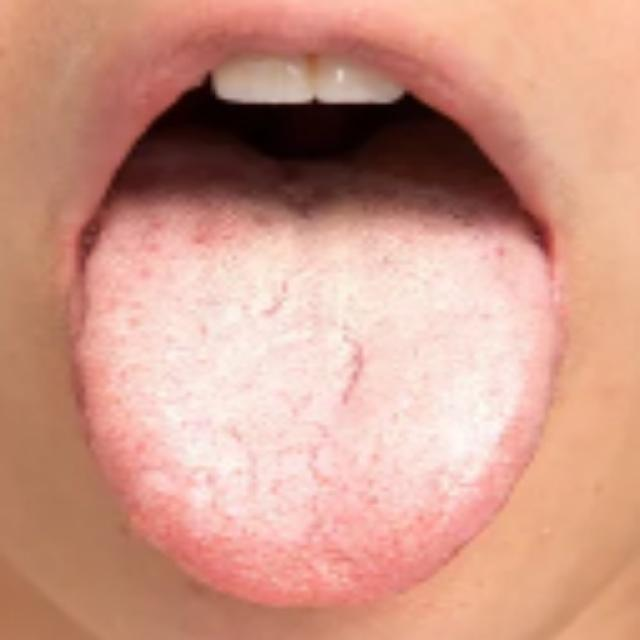processing_area: (77, 185, 560, 610)
